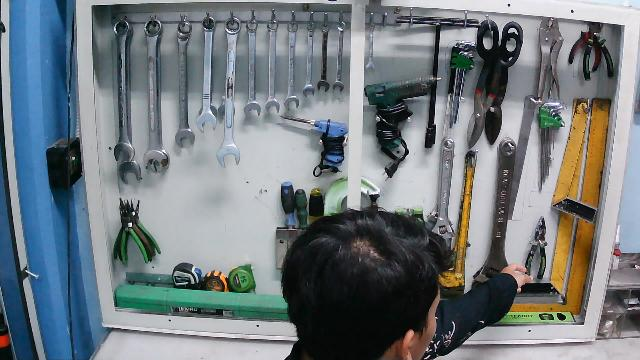tang_kombinasi: (515, 214, 553, 280)
